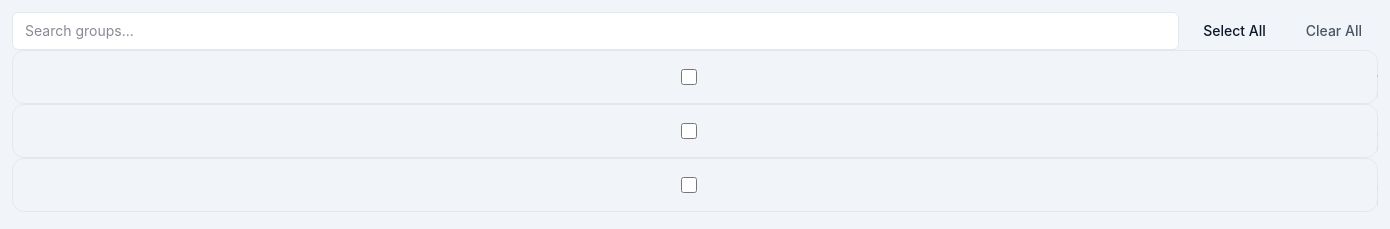
Scenario: GroupSelector › search/filter › shows no results message when search has no matches
The image size is (1390, 229).
Type "nonexistent" into the field with placeholder "Search groups..." at (596, 31), box [12, 12, 1179, 50]
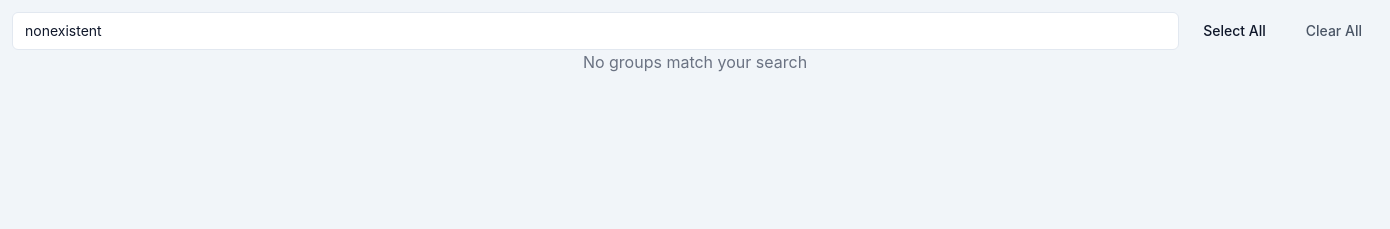
Expected: the text "No groups match your search" is shown, [583, 52, 807, 72]
